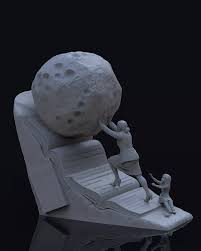3d print: (14, 52, 191, 230)
